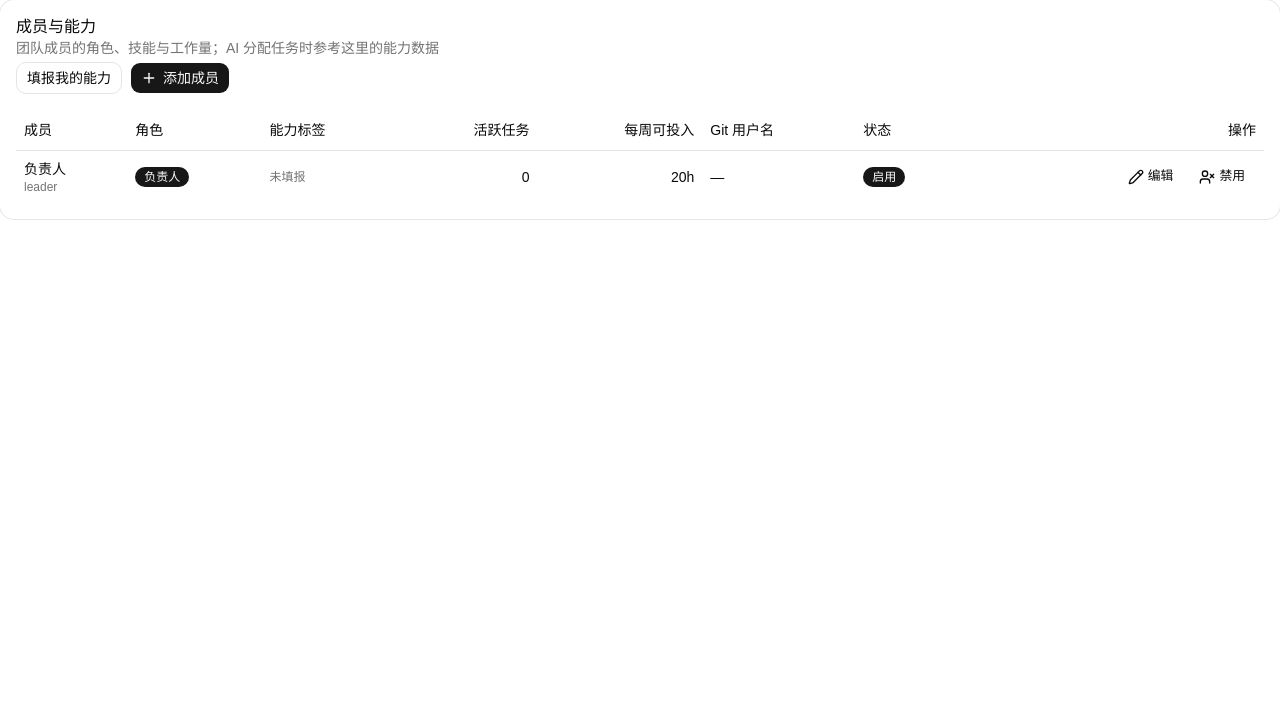
Test: 负责人核心路径 › 第 1 步：添加已有成员（POST /members，仅 username），复用账号无初始密码
// 负责人可见「添加成员」入口（建号收敛到 admin，仅能复用已有账号）
Click the button "添加成员".
click(180, 78)  # box [130, 62, 230, 94]
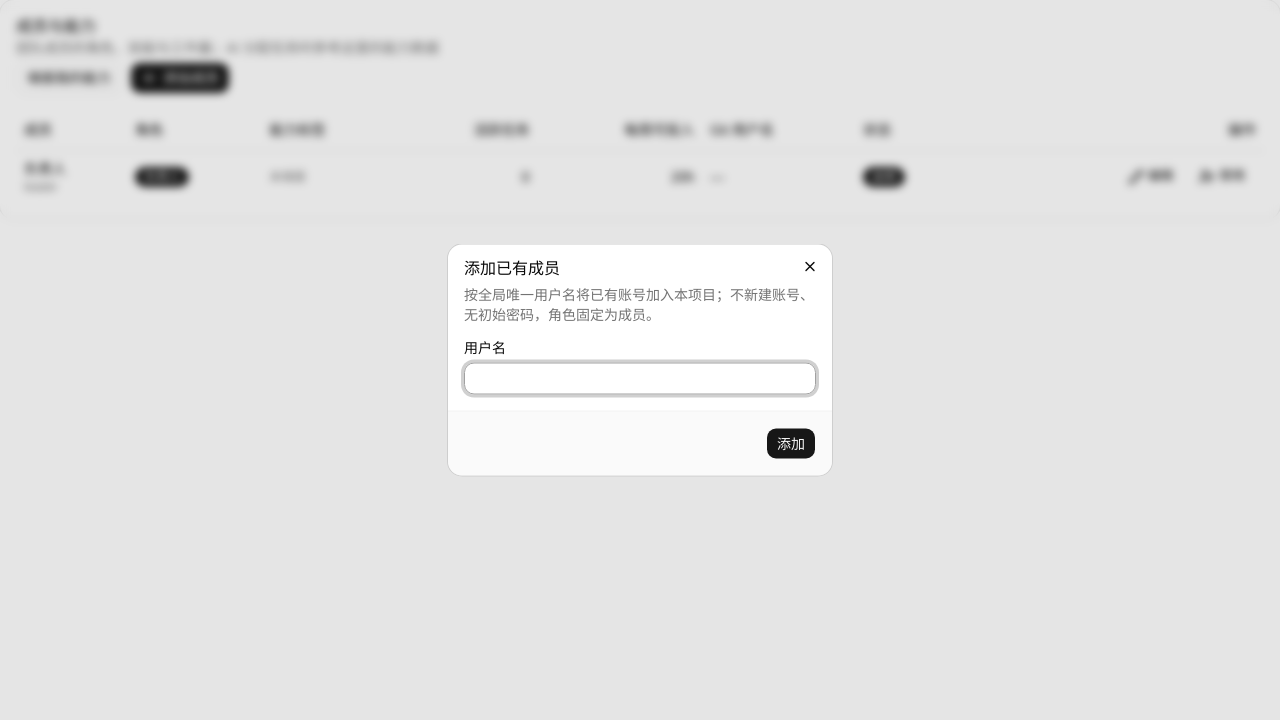
Type "alice" into the field labelled "用户名".
click(640, 378); type("alice")  # box [464, 362, 816, 394]
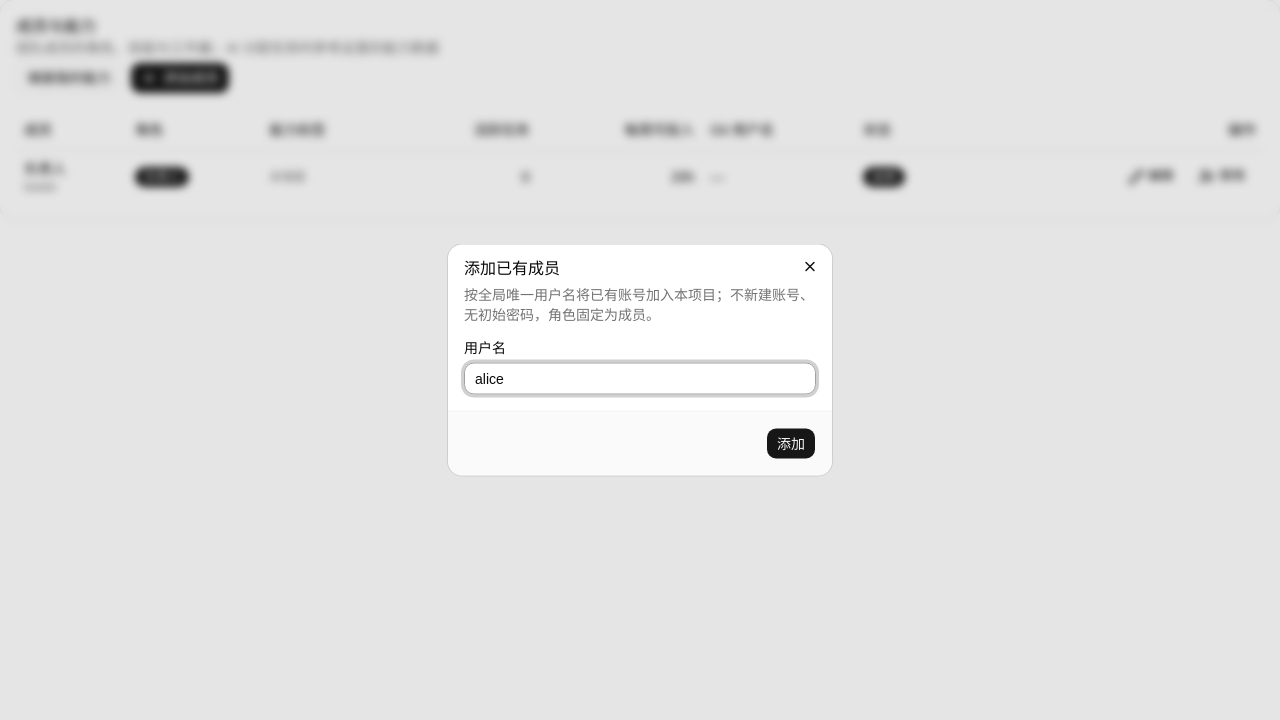
Click the button "添加".
click(791, 444)  # box [766, 428, 816, 460]
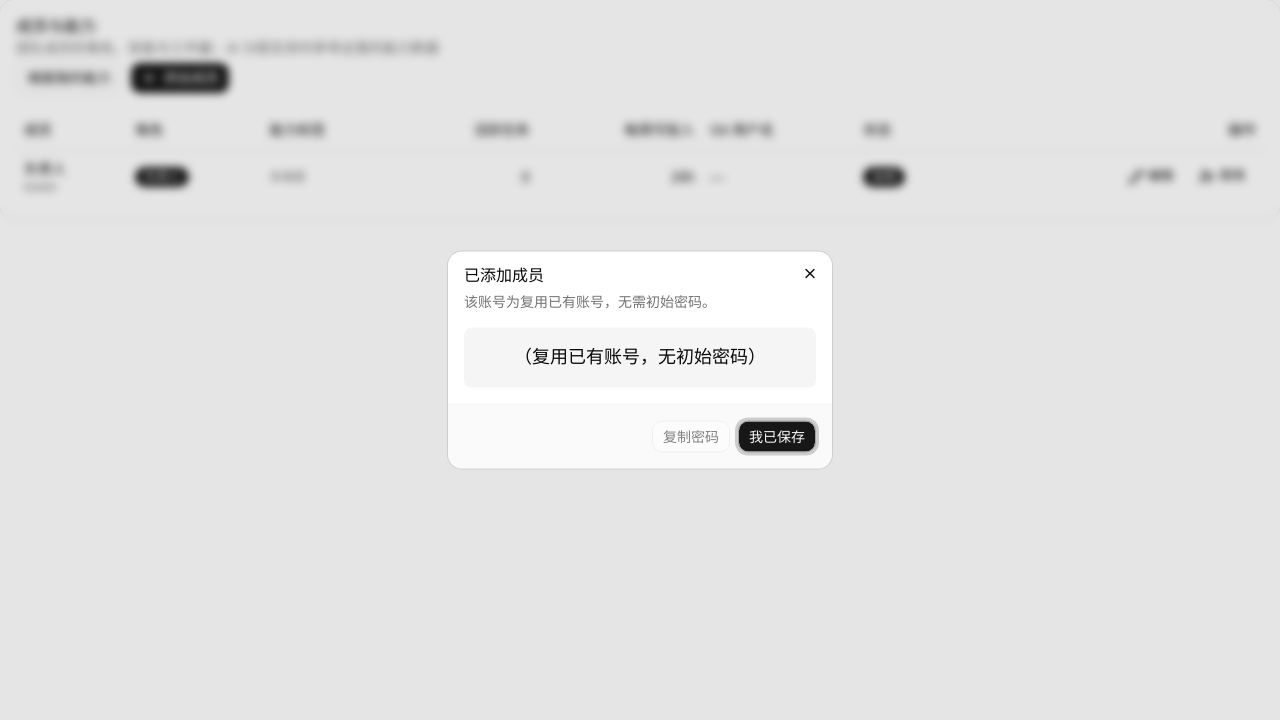
Check: the text "（复用已有账号，无初始密码）" is shown, box [464, 328, 816, 388]
